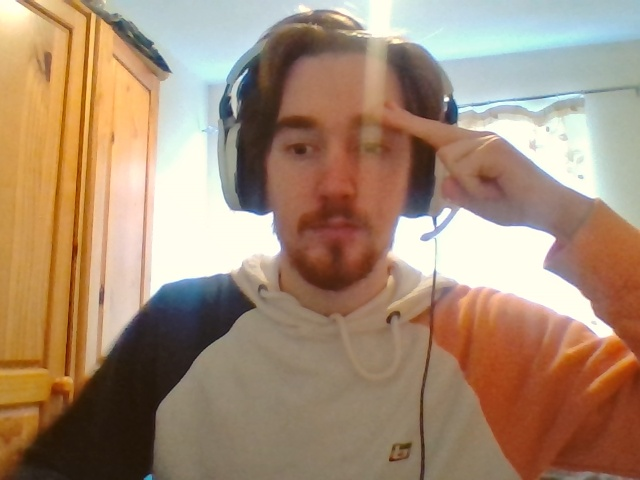name: (370, 101, 513, 222)
